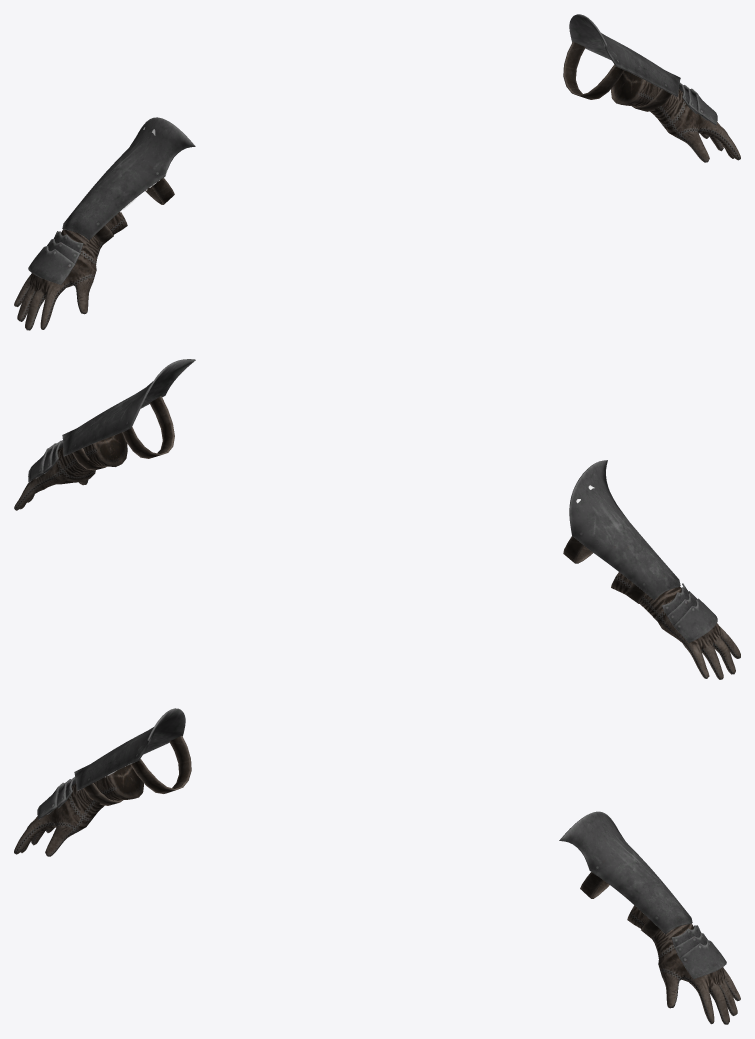
File: sk_uruk_hai_bracer_heavy_a3.fbx
The picture shows the model from 3 angles, top to bottom: view 1: azimuth 30°, elevation 25°; view 2: azimuth 150°, elevation 25°; view 3: azimuth 330°, elevation 25°; orthographic projection.
Parts seen in each view (by area): view 1: sk_uruk_hai_bracer_heavy_a3.0, sk_uruk_hai_bracer_heavy_a3.1; view 2: sk_uruk_hai_bracer_heavy_a3.0, sk_uruk_hai_bracer_heavy_a3.1; view 3: sk_uruk_hai_bracer_heavy_a3.0, sk_uruk_hai_bracer_heavy_a3.1.
Boxes of the visible parts, x1,y1,x2,y2 form: sk_uruk_hai_bracer_heavy_a3.0: (28,14,717,284); sk_uruk_hai_bracer_heavy_a3.1: (14,41,740,330); sk_uruk_hai_bracer_heavy_a3.0: (28,359,717,642); sk_uruk_hai_bracer_heavy_a3.1: (14,396,740,679); sk_uruk_hai_bracer_heavy_a3.0: (37,708,726,979); sk_uruk_hai_bracer_heavy_a3.1: (14,736,740,1024).
Size of the model in its own units: 1.59 by 0.1963 by 0.3715.
3 materials, 3 textured.
